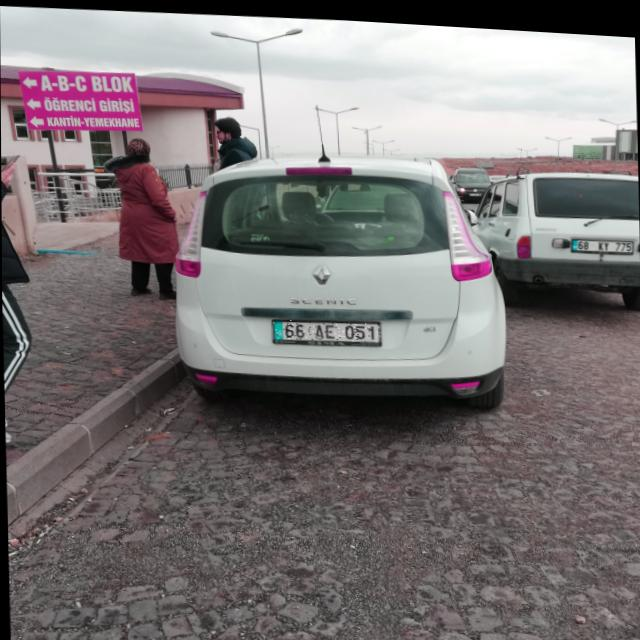license_plate: (272, 314, 380, 340)
